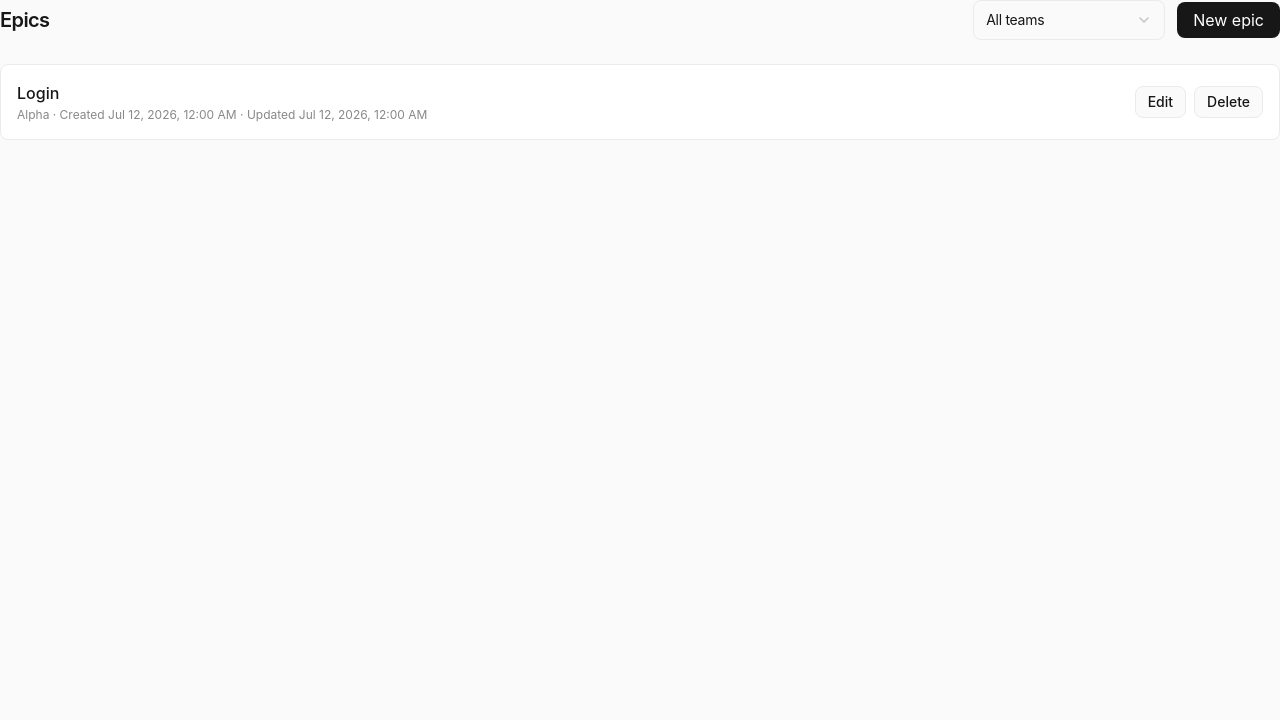
Test case: EpicsPage › delete_shouldRenderDetailAndKeepEpic_whenConflict
The image size is (1280, 720).
Click the button with aria-label "delete login". click: (1229, 102)
box: x1=1194 y1=86 x2=1263 y2=118
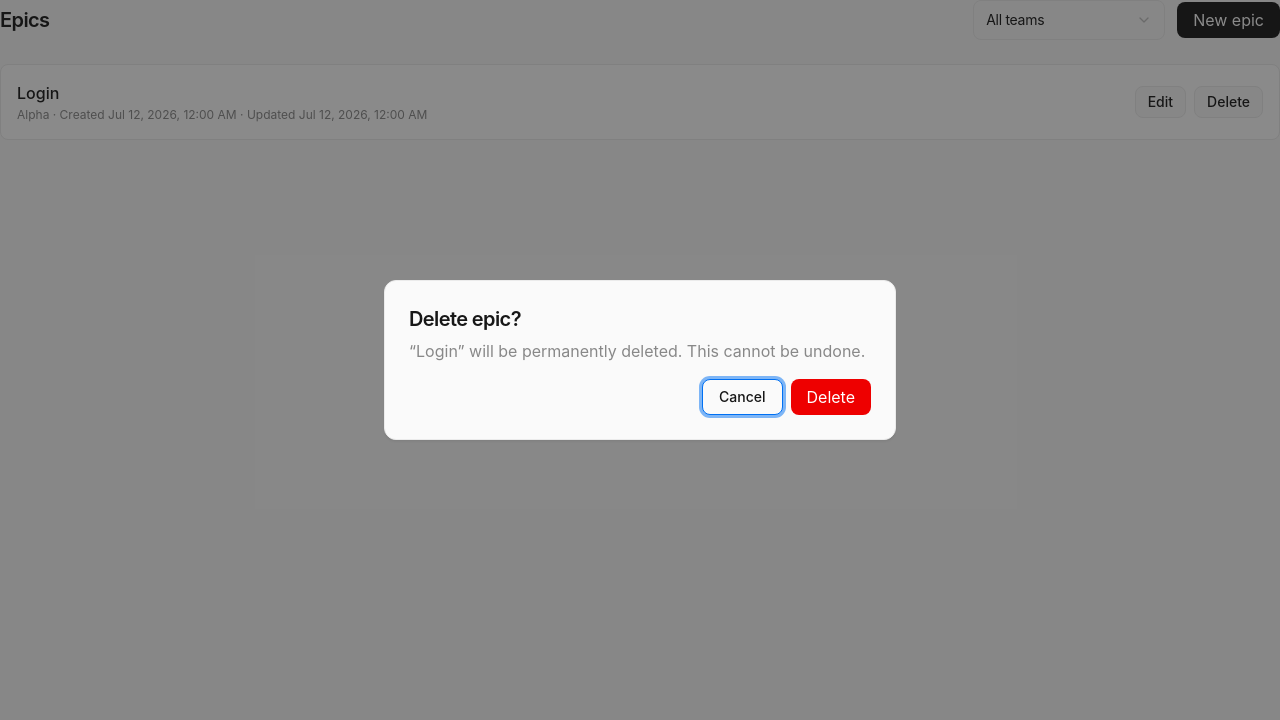
Click the button "Delete". click: (831, 397)
box: x1=790 y1=379 x2=871 y2=415
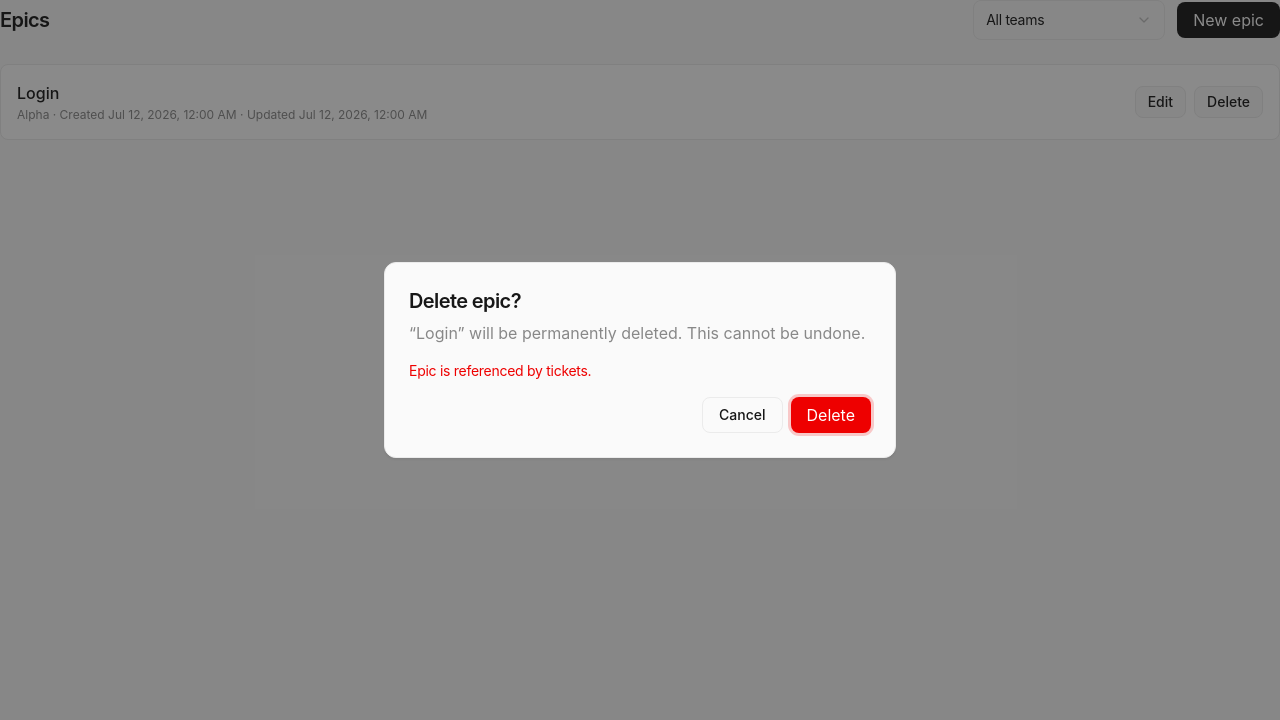
Expected: the text "Login" is shown, x1=17 y1=83 x2=59 y2=103
Expected: the message reads "Epic is referenced by tickets.", x1=409 y1=362 x2=591 y2=379
